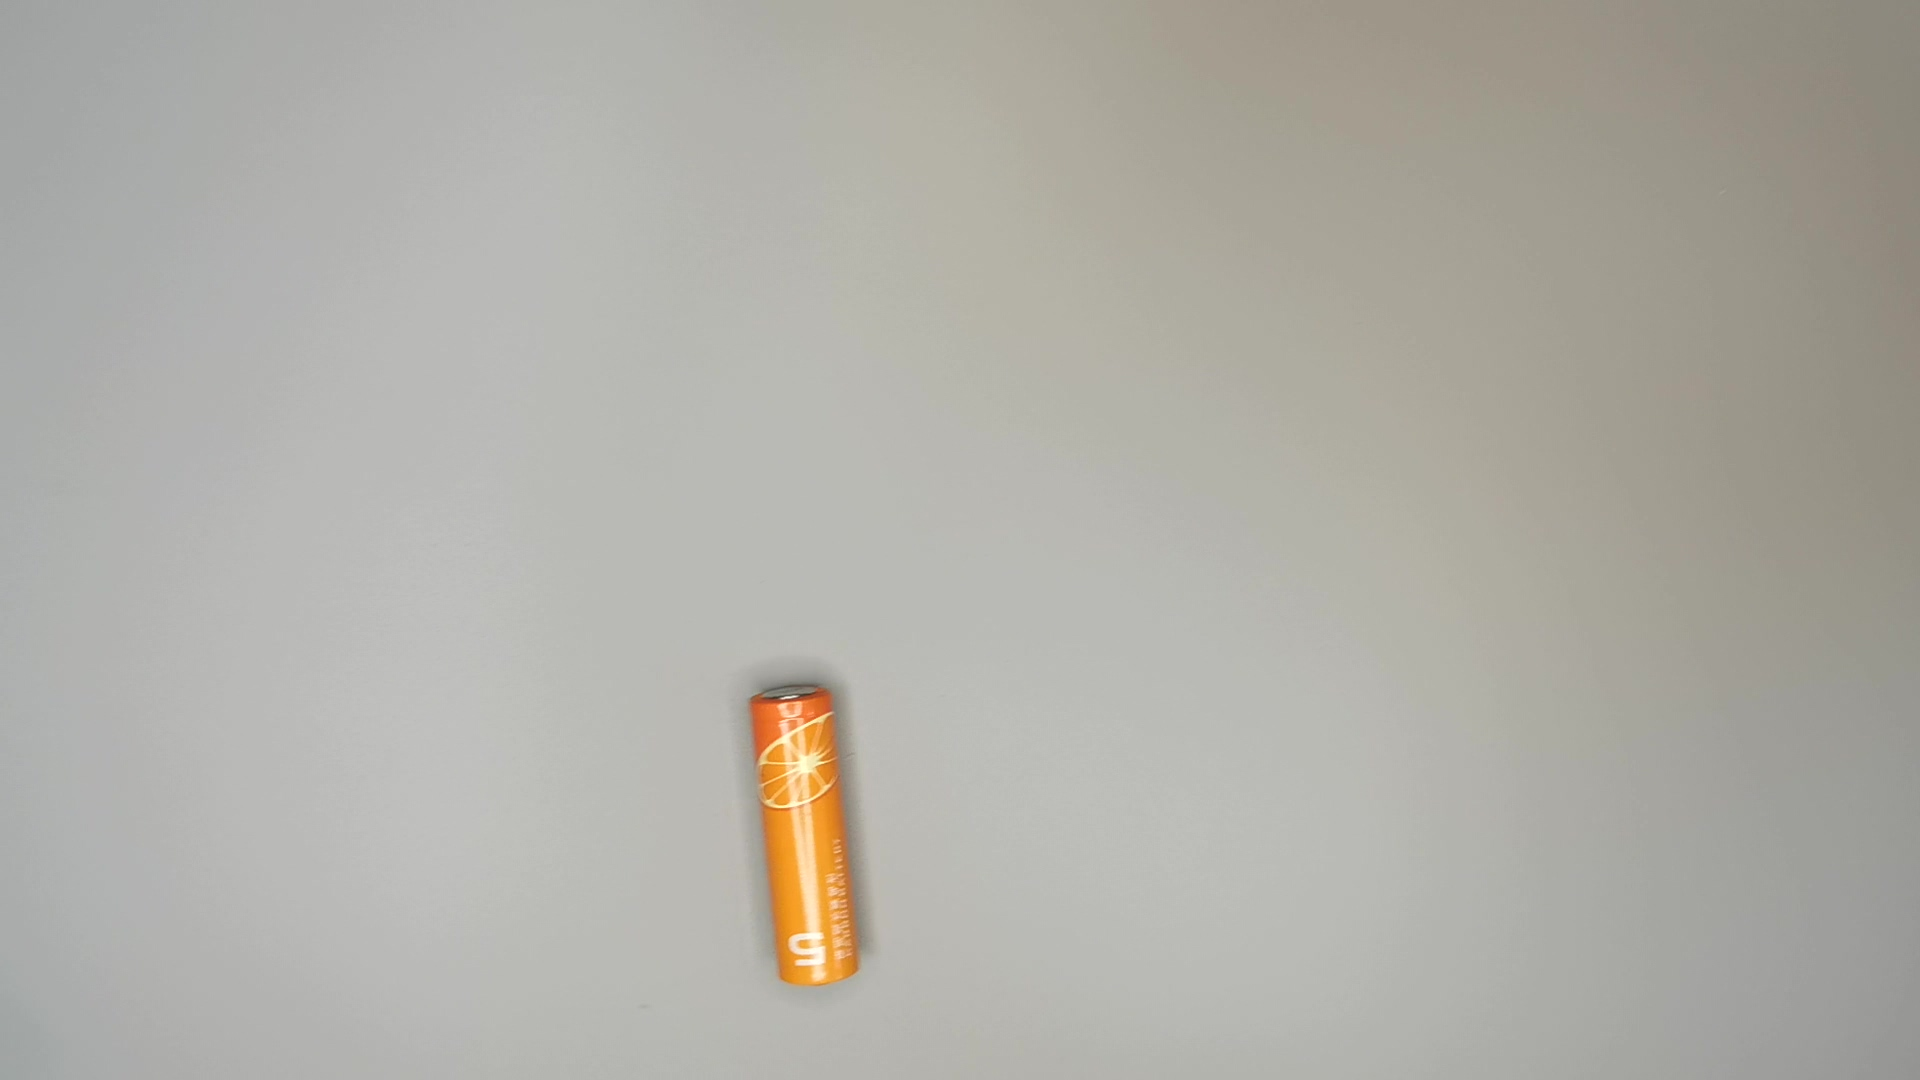battery: (742, 674, 866, 994)
